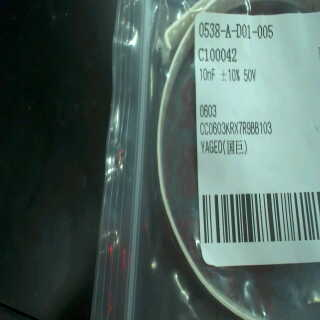10nF: (199, 67, 218, 83)
